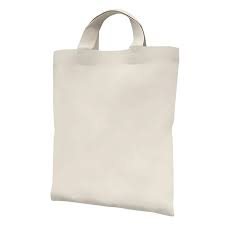bag: (51, 7, 181, 218)
